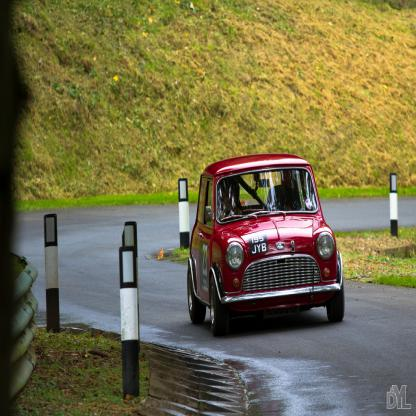Car: (187, 153, 344, 335)
